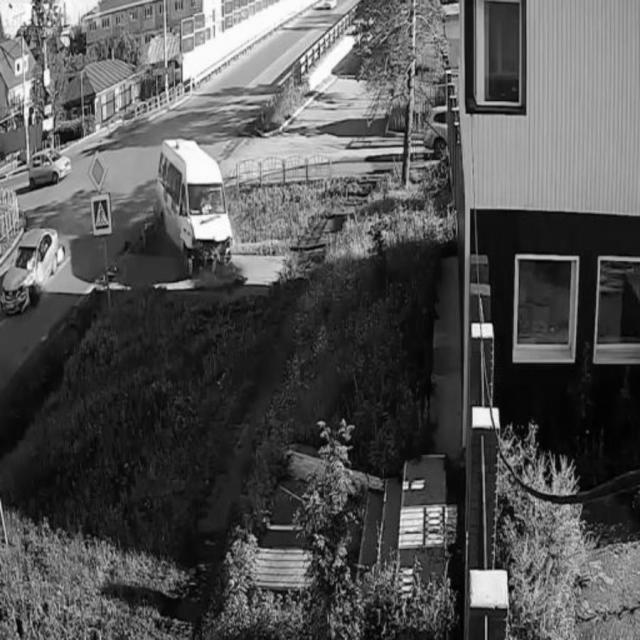vehicle: (157, 137, 238, 275), (4, 220, 60, 318), (29, 149, 70, 185)
